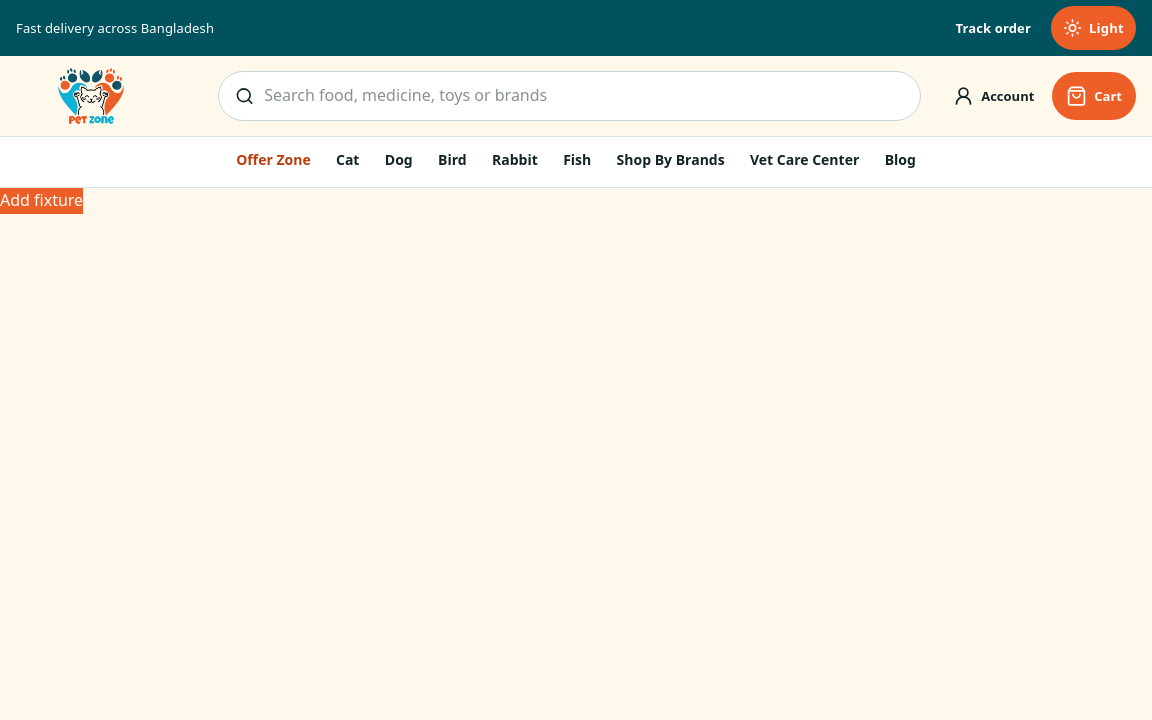
Test: CartDrawer › dismisses from the backdrop and exposes cart and checkout actions
Click the button with aria-label "cart with 0 items" at (1094, 96), box [1052,72,1136,120]
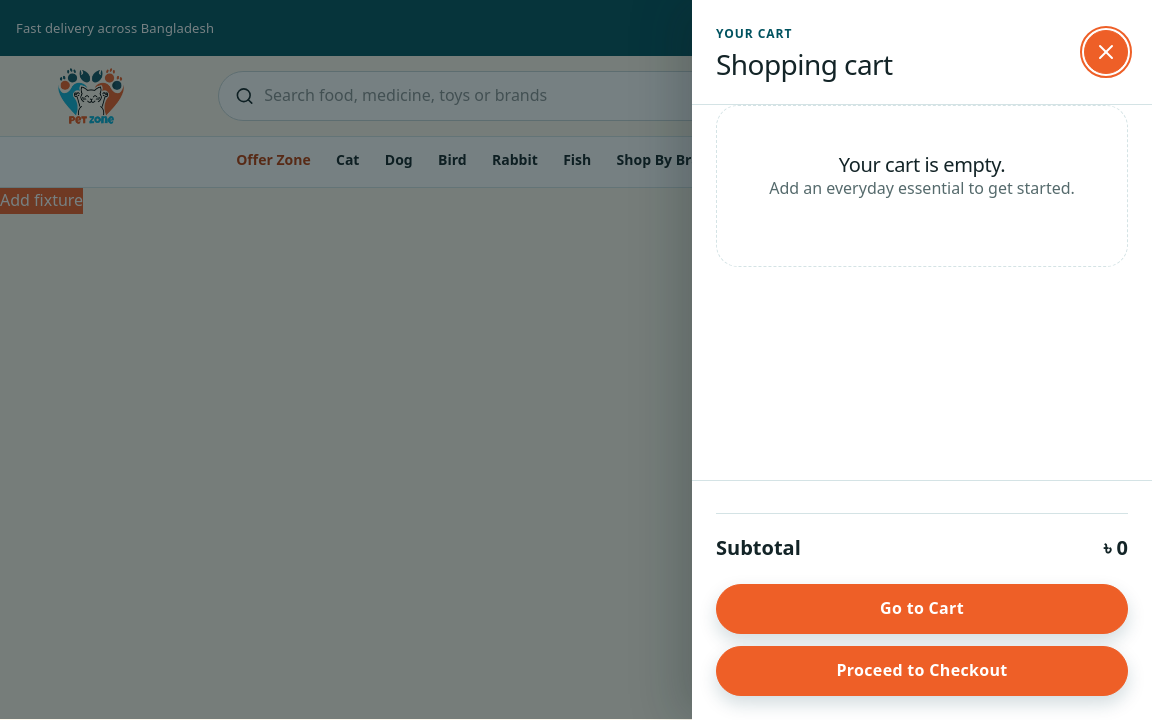
Click the button with test id "cart-drawer-backdrop" at (576, 359), box [0,0,1151,719]
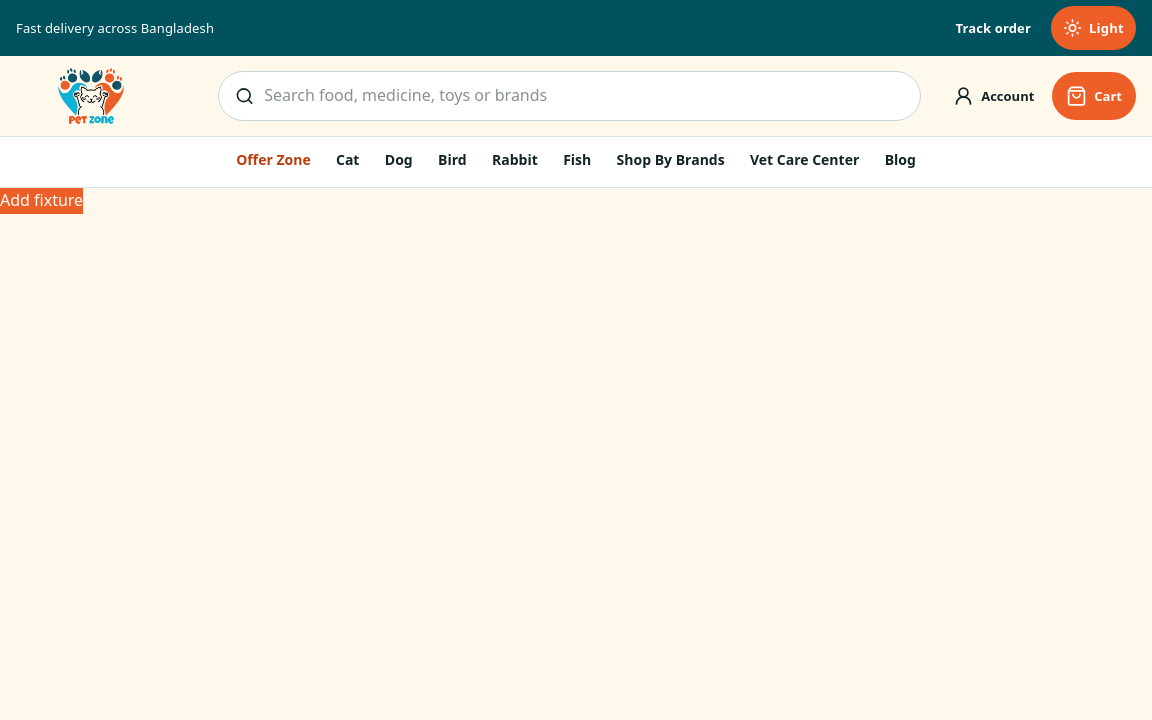
Check: the dialog is gone
